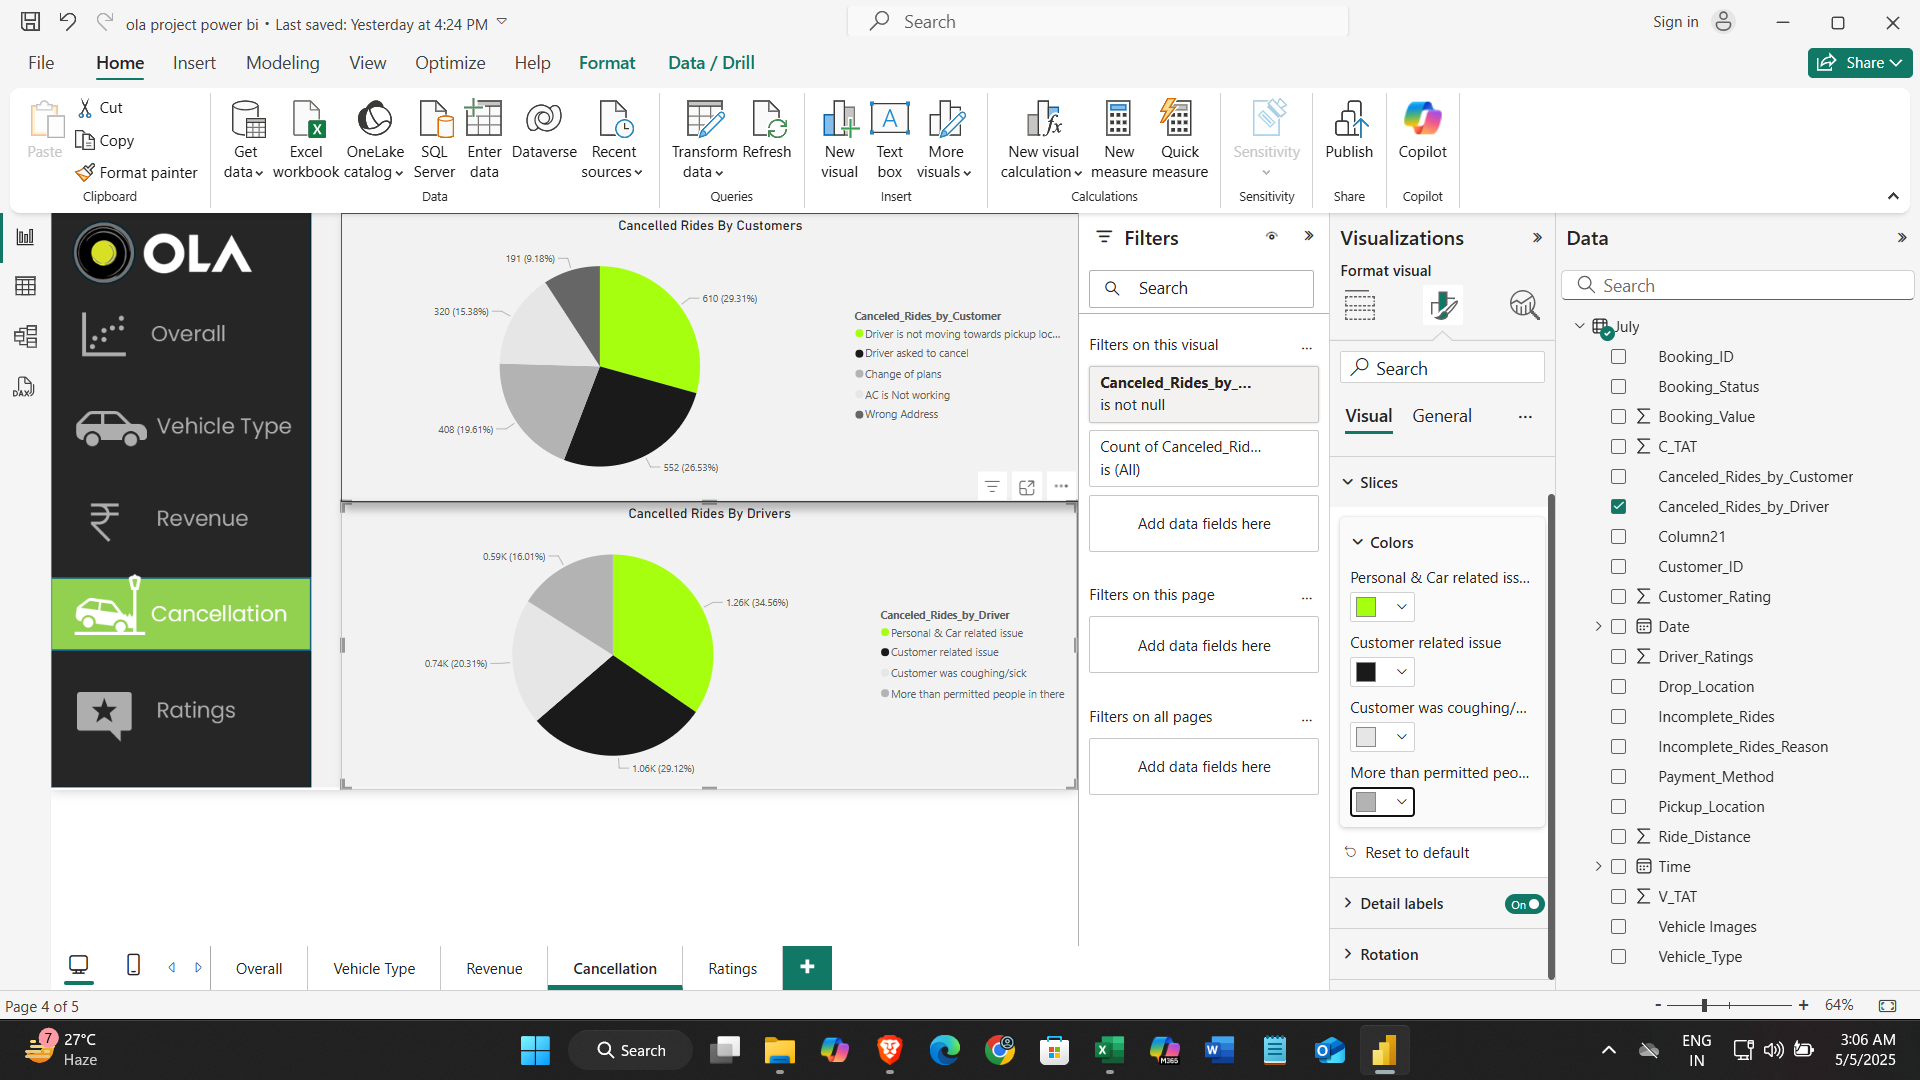

This screenshot's page, from the dashboard's own definition file:
{"tool":"powerbi","page":{"name":"Cancellation ","canvas":[1280,720],"ordinal":3},"visuals":[{"type":"actionButton","box":[0,581.2,326.2,88.8],"z":0},{"type":"actionButton","box":[0,345,326.2,88.8],"z":1000},{"type":"actionButton","box":[0,112.5,326.2,88.8],"z":2000},{"type":"actionButton","box":[0,224.3,325.7,88.6],"z":3000},{"type":"pieChart","title":"Cancelled Rides By Drivers","fields":{"Category":["July.Canceled_Rides_by_Driver"],"Y":["CountNonNull(July.Canceled_Rides_by_Driver)"]},"box":[640.2,359.8,640.2,359.8],"z":4000},{"type":"pieChart","title":"Cancelled Rides By Customers","fields":{"Category":["July.Canceled_Rides_by_Customer"],"Y":["CountNonNull(July.Canceled_Rides_by_Customer)"]},"box":[640.2,0,640.2,359.8],"z":5000},{"type":"slicer","title":"Date","fields":{"Values":["July.Date"]},"box":[325.5,0,314.6,141.7],"z":6000},{"type":"card","title":"Total Bookings","fields":{"Values":["Count(July.Booking_ID)"]},"box":[324,168.2,316.2,112.1],"z":7000},{"type":"card","title":"Succeeded Bookings","fields":{"Values":["Count(July.Booking_ID)"]},"box":[324,290,316.2,112.1],"z":8000},{"type":"card","title":"Cancelled Bookings","fields":{"Values":["Count(July.Booking_ID)"]},"box":[324,412.8,316.2,112.1],"z":9000},{"type":"actionButton","box":[0,0,100,40],"z":10000}]}

Visuals, with their boxes on the page's 1280x720 design canvas (x1, y1, x2, y2). These are canvas units, not pixel positions in the 1920x1080 screenshot, which may show the page scaled, cropped or inside an application window:
actionButton: locate(0, 581, 326, 670)
actionButton: locate(0, 345, 326, 434)
actionButton: locate(0, 112, 326, 201)
actionButton: locate(0, 224, 326, 313)
"Cancelled Rides By Drivers" pieChart: locate(640, 360, 1280, 720)
"Cancelled Rides By Customers" pieChart: locate(640, 0, 1280, 360)
"Date" slicer: locate(326, 0, 640, 142)
"Total Bookings" card: locate(324, 168, 640, 280)
"Succeeded Bookings" card: locate(324, 290, 640, 402)
"Cancelled Bookings" card: locate(324, 413, 640, 525)
actionButton: locate(0, 0, 100, 40)
